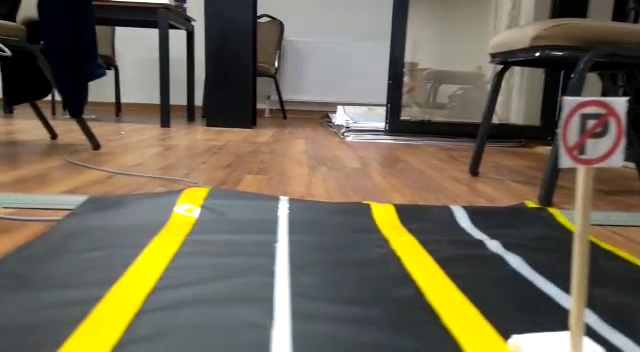park_yapilmaz: (561, 95, 624, 168)
